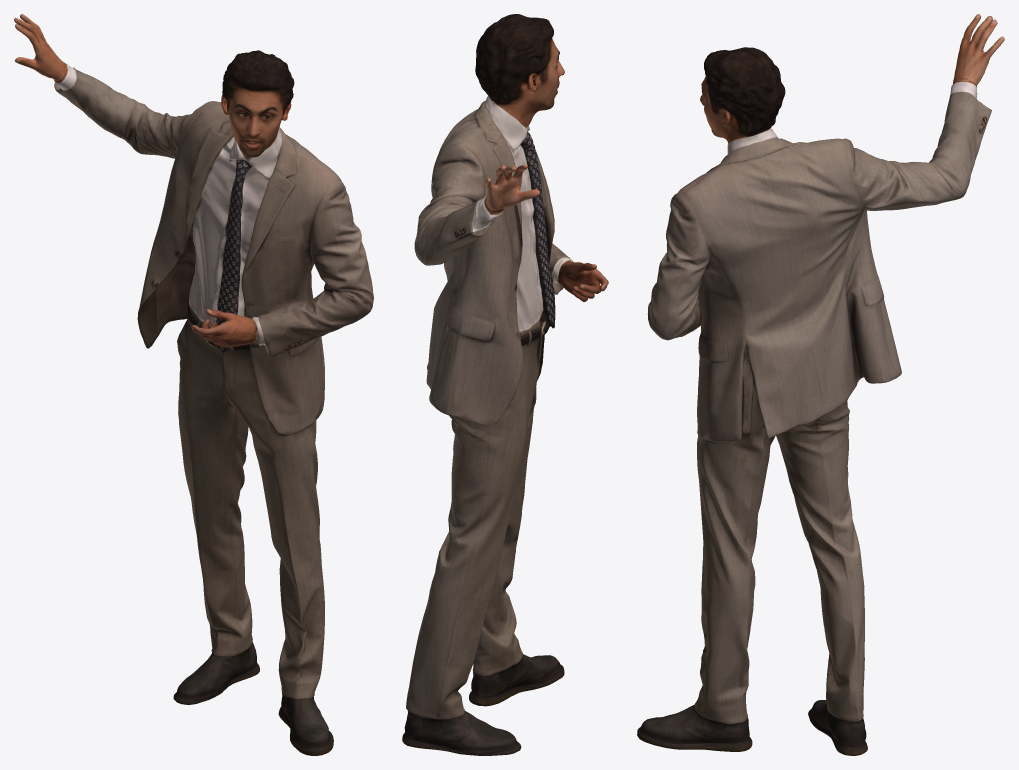
The model's file is 00219_Paul008.OBJ.
3 renders of one model, left to right at view 1: azimuth 30°, elevation 25°; view 2: azimuth 150°, elevation 25°; view 3: azimuth 270°, elevation 25°, orthographic. The views are drawn at different scales.
Parts seen in each view (by area): view 1: 00219_Paul008; view 2: 00219_Paul008; view 3: 00219_Paul008.
Boxes of the visible parts, x1=… form: 00219_Paul008: x1=14, y1=14, x2=373, y2=755; 00219_Paul008: x1=402, y1=14, x2=608, y2=755; 00219_Paul008: x1=637, y1=14, x2=1004, y2=755.
Bounding box in the file's own units: 23.96 × 72.47 × 35.61.
1 material, 1 textured.
